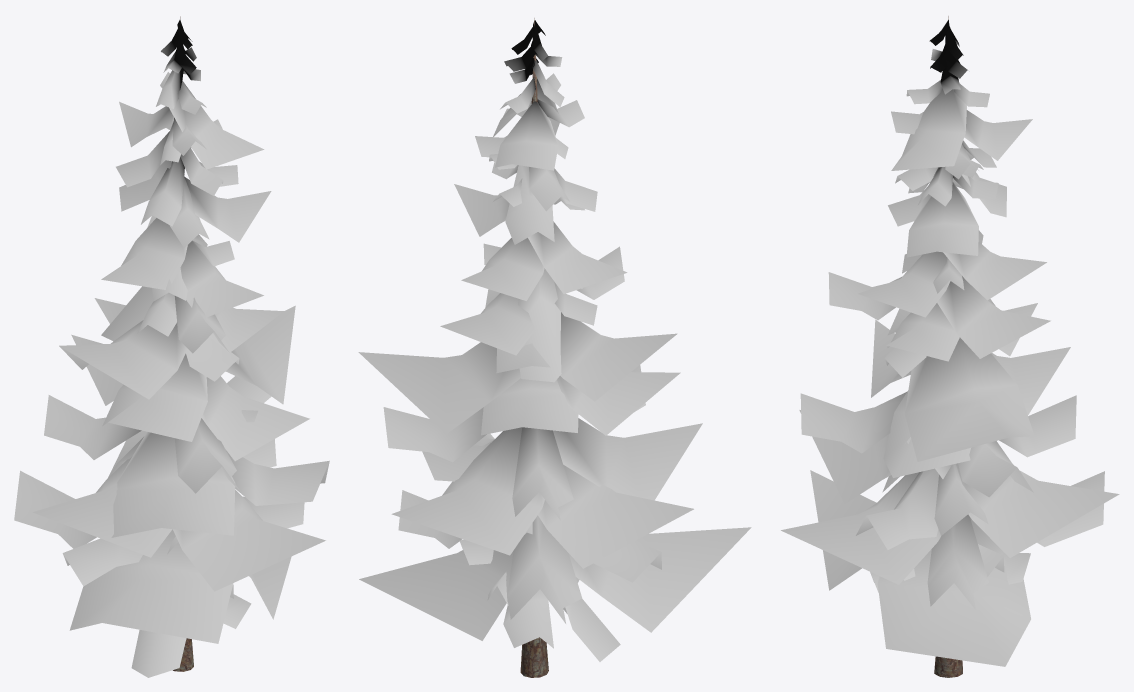
Rendered from Fol_SpruceB.FBX.
The picture shows the model from 3 angles, left to right: view 1: azimuth 30°, elevation 25°; view 2: azimuth 150°, elevation 25°; view 3: azimuth 270°, elevation 25°; orthographic projection.
Parts seen in each view (by area): view 1: Spruce2_Needles; view 2: Spruce2_Needles, Spruce2_Trunk; view 3: Spruce2_Needles, Spruce2_Trunk.
Part boxes in pixels (left/top/right/bottom): Spruce2_Needles: left=14, top=20, right=329, bottom=677; Spruce2_Needles: left=358, top=20, right=751, bottom=661; Spruce2_Trunk: left=520, top=18, right=548, bottom=677; Spruce2_Needles: left=781, top=20, right=1119, bottom=666; Spruce2_Trunk: left=934, top=16, right=962, bottom=677.
Size of the model in its own units: 500 by 1039 by 486.
